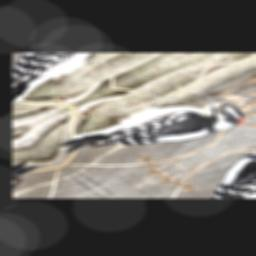Woodpecker: (53, 79, 254, 183)
